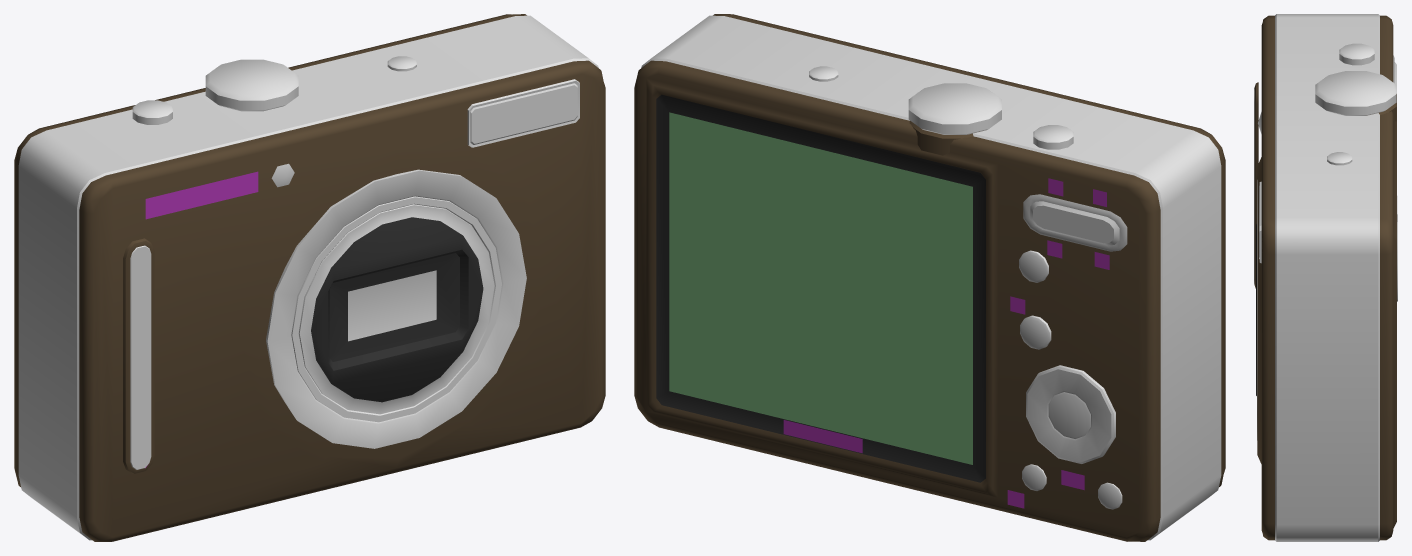
3 views of the same model, side by side, from view 1: azimuth 30°, elevation 25°; view 2: azimuth 150°, elevation 25°; view 3: azimuth 270°, elevation 25° (orthographic). The views are drawn at different scales.
Parts seen in each view (by area): view 1: L310W; view 2: L310W; view 3: L310W.
Part boxes in pixels (x1=…): L310W: x1=14, y1=14, x2=605, y2=541; L310W: x1=634, y1=14, x2=1225, y2=541; L310W: x1=1254, y1=14, x2=1397, y2=541.
Bounding box in the file's own units: 9.22 × 2.5 × 6.42.
